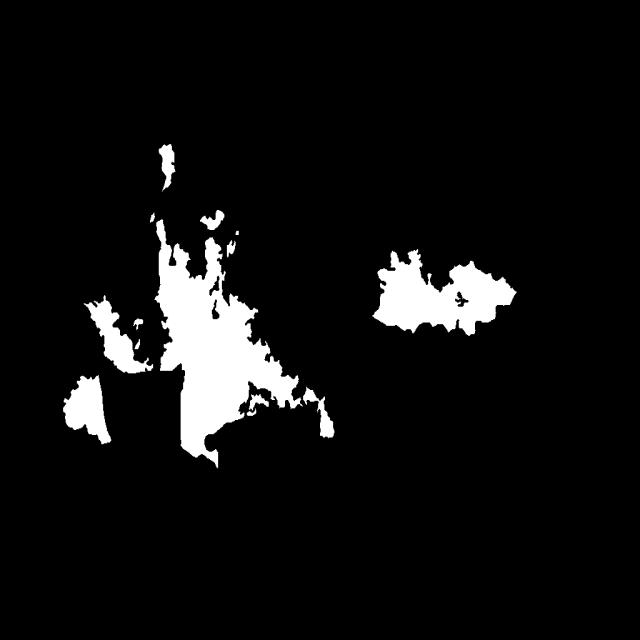fire: (61, 164, 366, 568), (385, 179, 549, 395)
